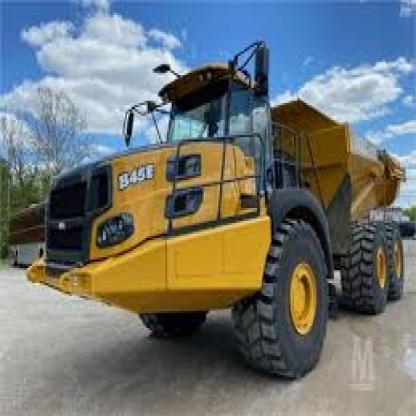dump_truck: (34, 32, 414, 378)
